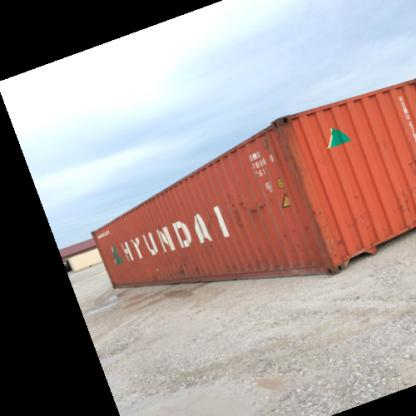Damage: (274, 122, 312, 178), (222, 192, 278, 227), (279, 214, 321, 248), (218, 253, 270, 278), (160, 251, 202, 278), (329, 232, 353, 260), (394, 184, 410, 222)
